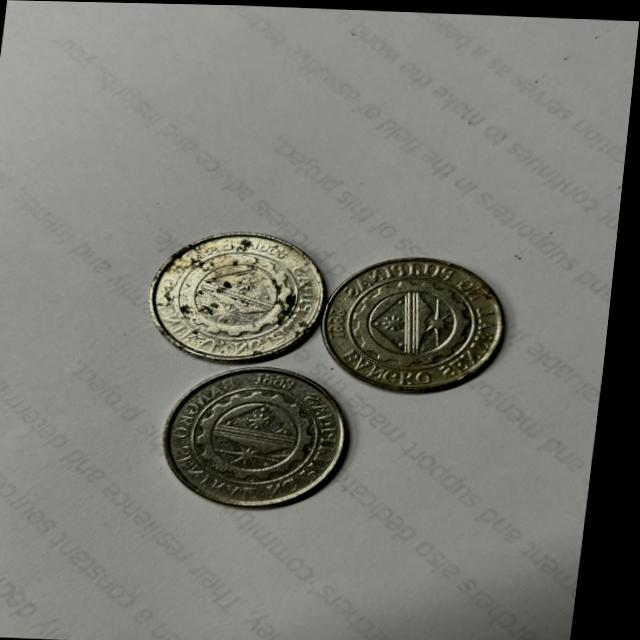1_Old_Back: (353, 264, 494, 378), (187, 383, 341, 485)
